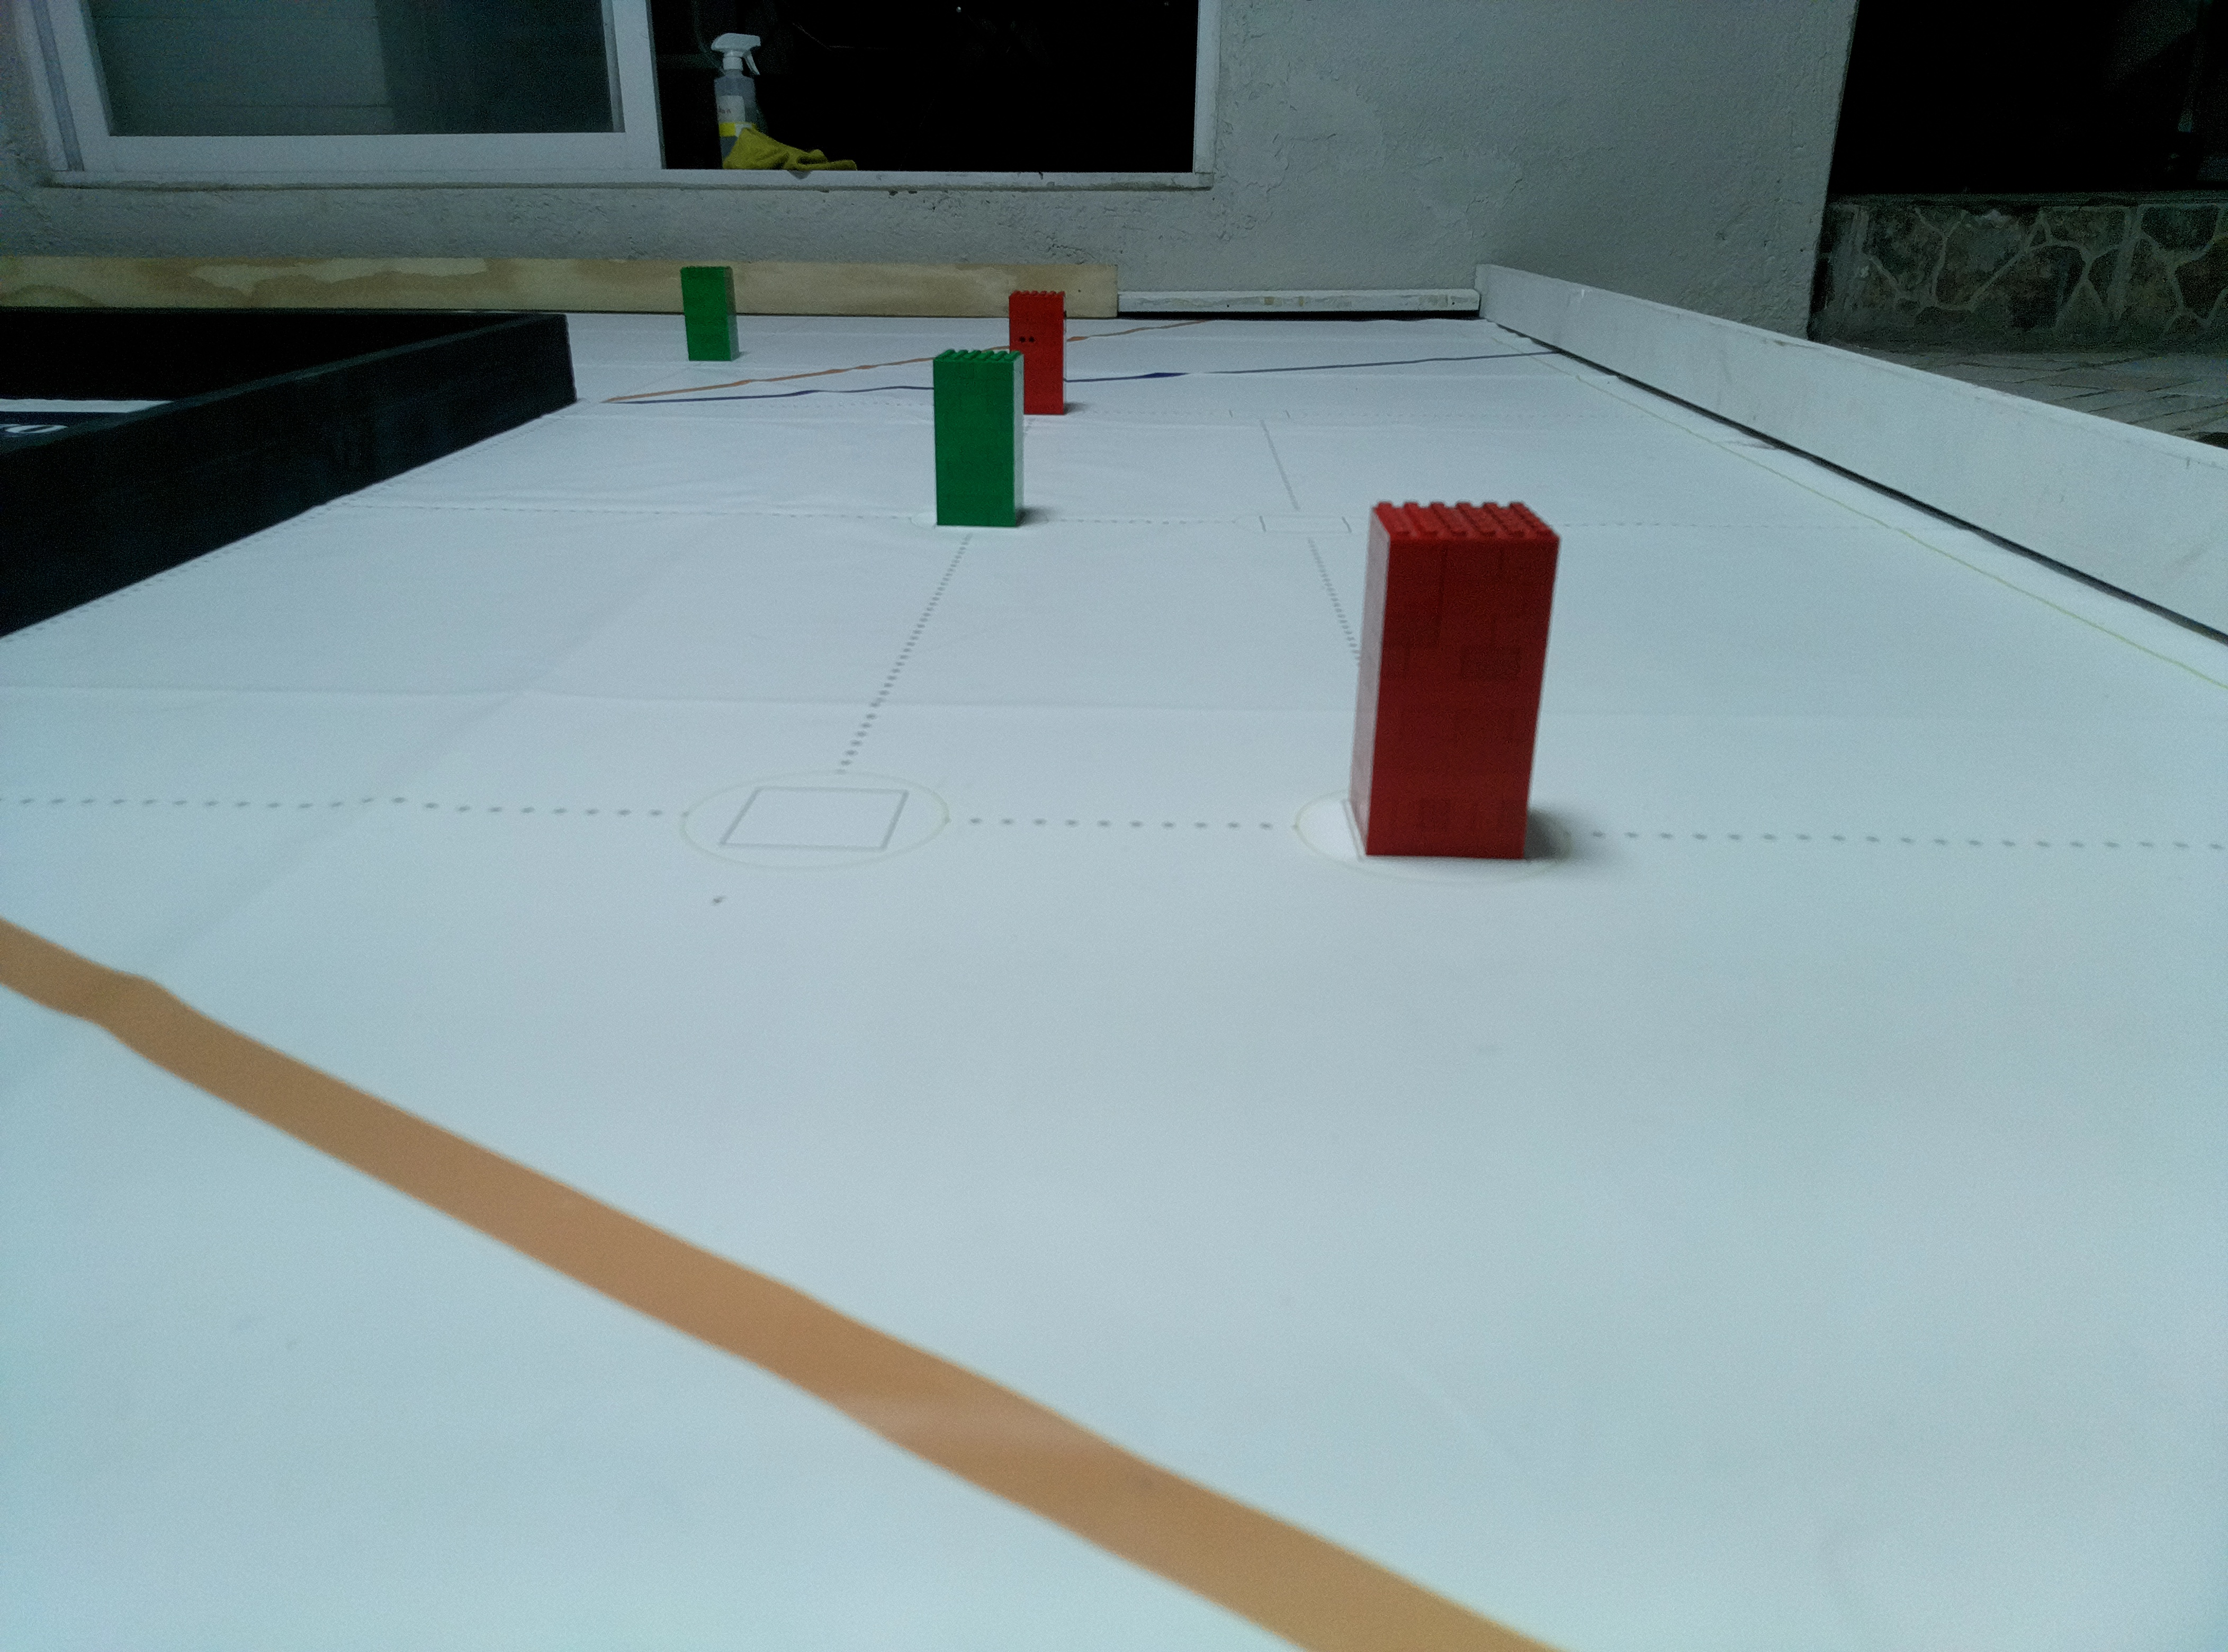greenbox: (927, 351, 1026, 529), (678, 265, 739, 366)
redbox: (1341, 496, 1565, 857), (1012, 290, 1060, 413)
